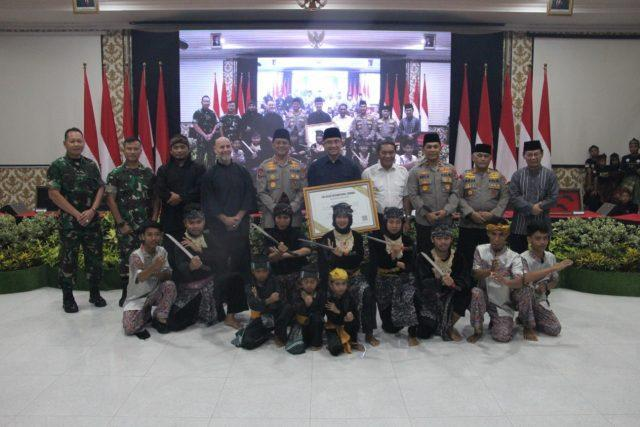facao: (160, 231, 208, 278), (250, 222, 296, 262), (301, 232, 357, 262), (419, 247, 456, 289), (363, 227, 412, 253)
